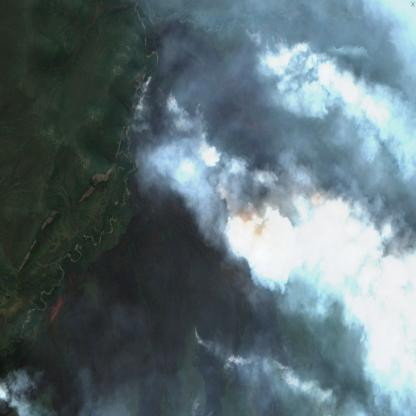fire: (136, 12, 344, 249)
